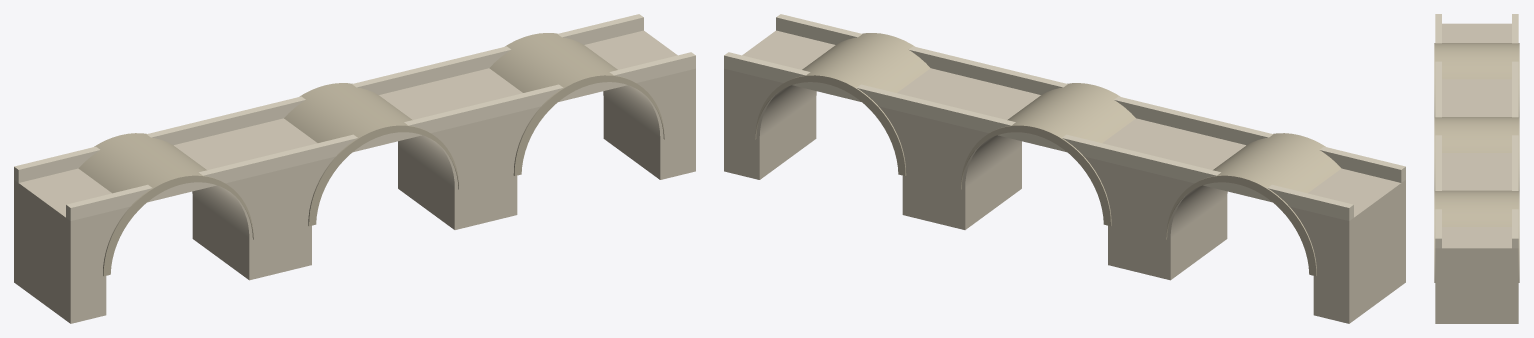
Rendered from l-ponte-isabella.glb.
3 views of the same model, side by side, from view 1: azimuth 30°, elevation 25°; view 2: azimuth 150°, elevation 25°; view 3: azimuth 270°, elevation 25° (orthographic). The views are drawn at different scales.
Parts seen in each view (by area): view 1: part0, part4, part2, part3, part1; view 2: part0, part4, part2, part3, part1; view 3: part0, part3, part1, part2, part4.
Boxes of the visible parts, x1,y1,x2,y2 form: part0: [14, 30, 695, 323]; part4: [14, 14, 695, 220]; part2: [284, 83, 458, 226]; part3: [489, 33, 664, 175]; part1: [78, 133, 253, 276]; part0: [724, 30, 1405, 323]; part4: [724, 14, 1405, 220]; part2: [961, 83, 1135, 226]; part3: [755, 33, 930, 175]; part1: [1166, 133, 1341, 276]; part0: [1435, 23, 1518, 323]; part3: [1434, 190, 1519, 282]; part1: [1434, 43, 1519, 116]; part2: [1434, 117, 1519, 190]; part4: [1435, 14, 1518, 248].
Bounding box in the file's own units: 70000 × 12900 × 11280.
